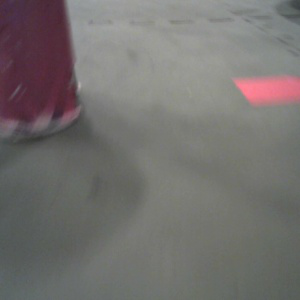middle: (1, 1, 84, 138)
